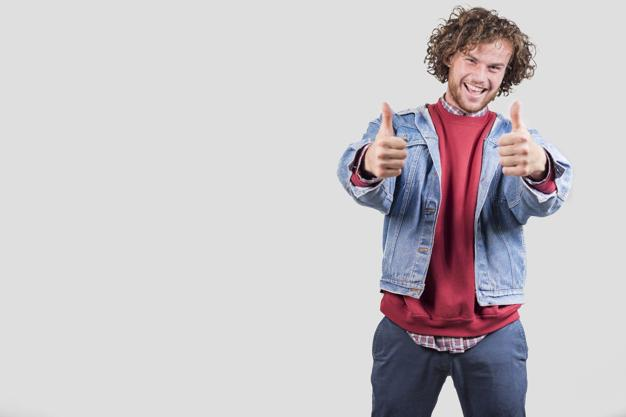thumbsup: (498, 101, 533, 177), (373, 102, 407, 178)
